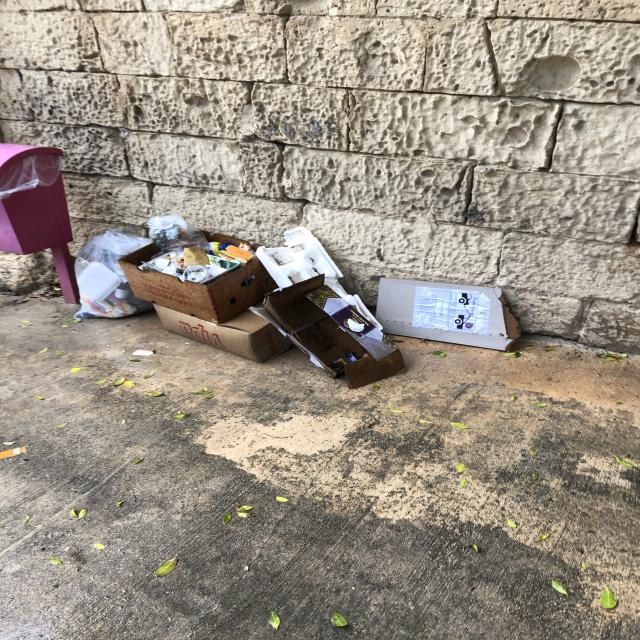Other: (122, 226, 300, 358), (248, 276, 404, 384), (1, 131, 80, 316), (380, 270, 519, 356), (251, 228, 359, 297)
Recycled Waste -Grey or Green Bag-: (82, 227, 150, 321), (145, 214, 192, 240)
